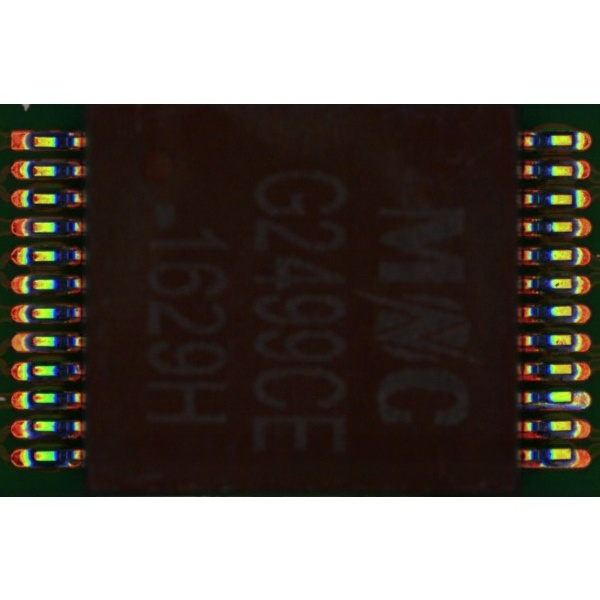Bad_podu: (565, 393, 579, 402)
Bad_qiaojiao: (530, 401, 570, 408)
